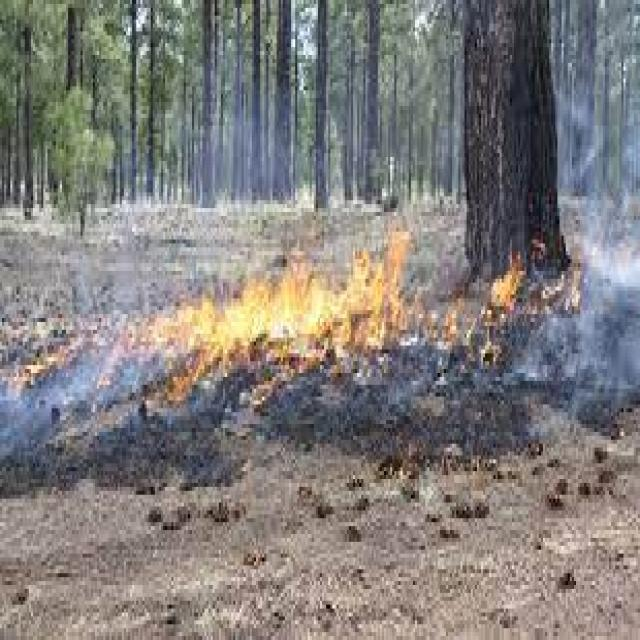Fire: (144, 230, 412, 376), (486, 248, 528, 316), (556, 256, 582, 320)
Smoke: (526, 290, 640, 392)
